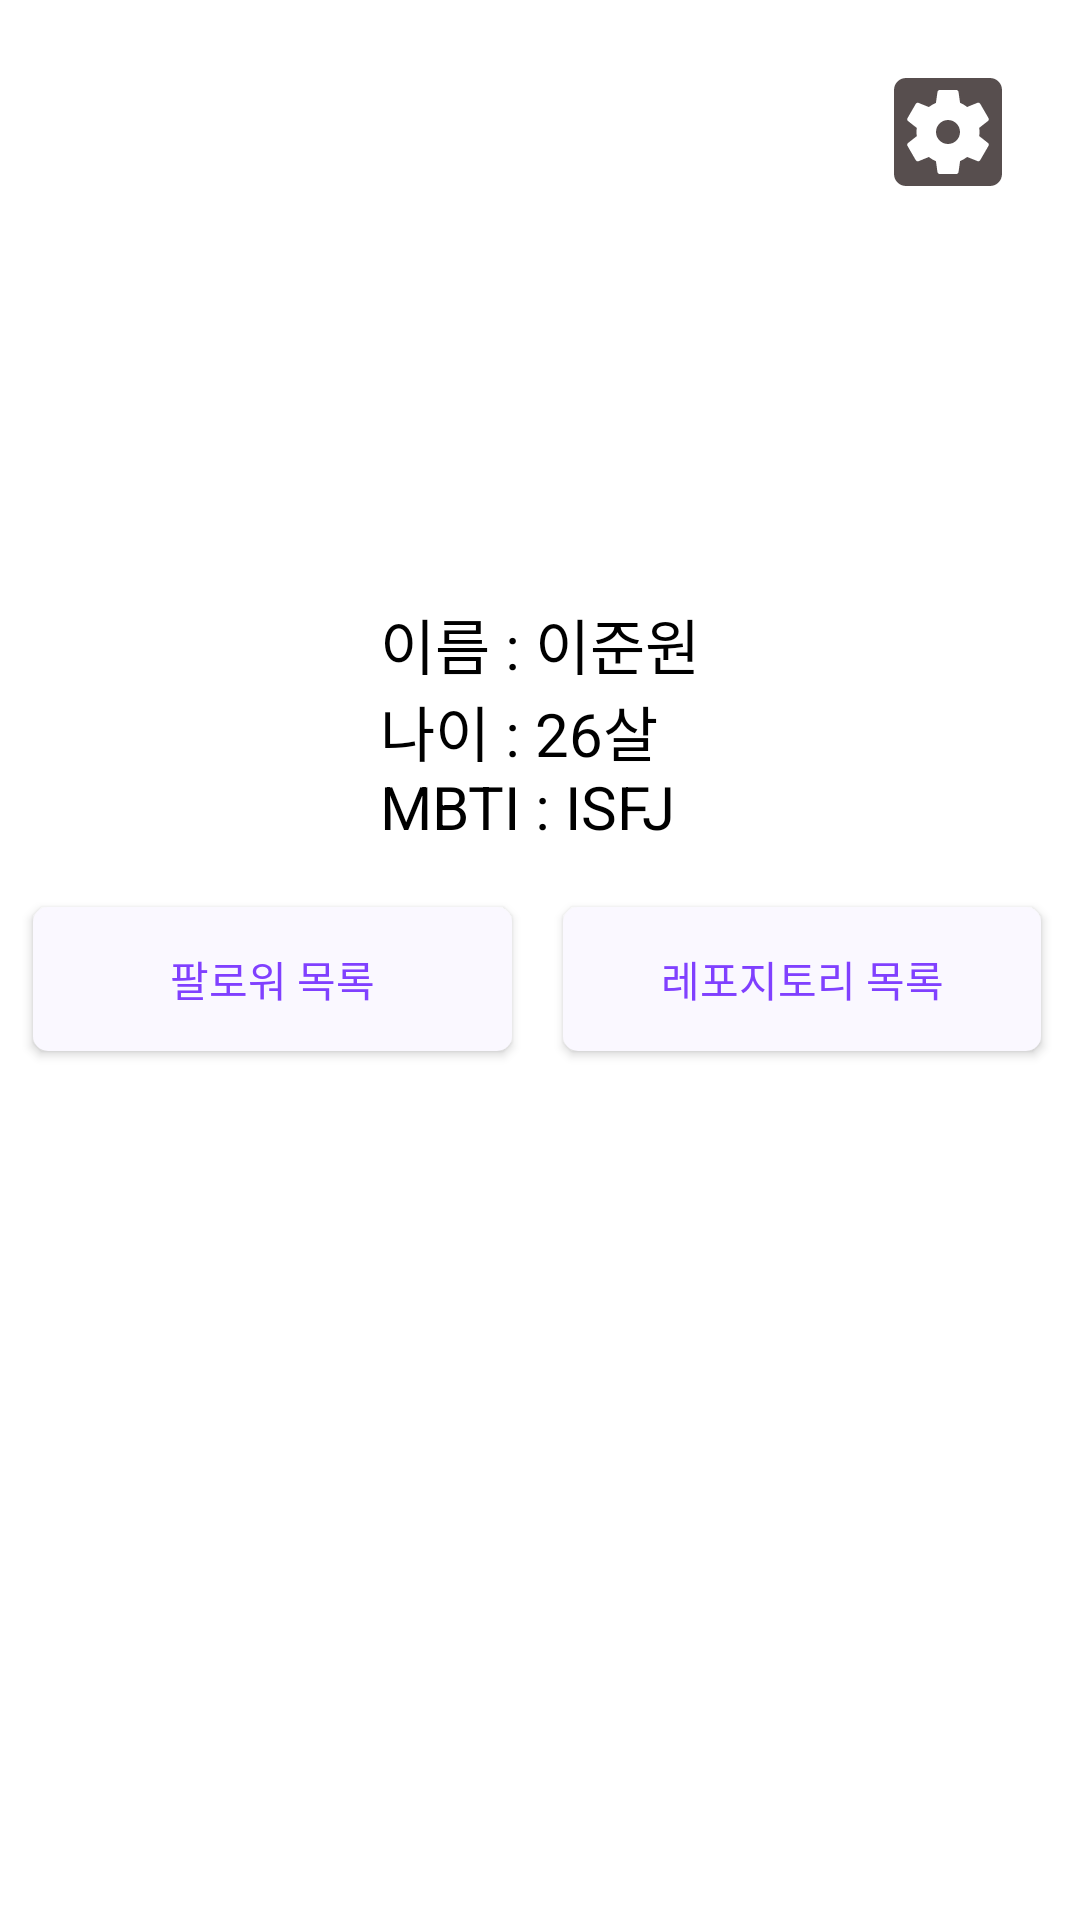

Icon click points for this 1080px x 1920px phone screenshot, format (x,y):
settings applications: (948,132)
